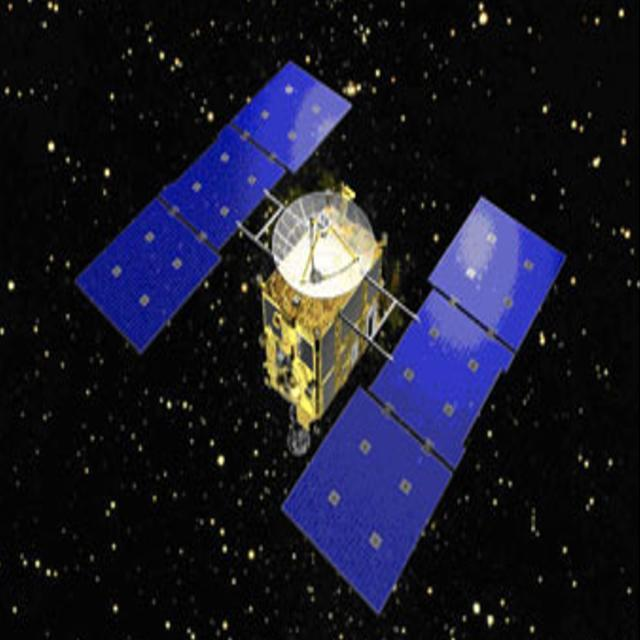sat: (68, 51, 568, 613)
